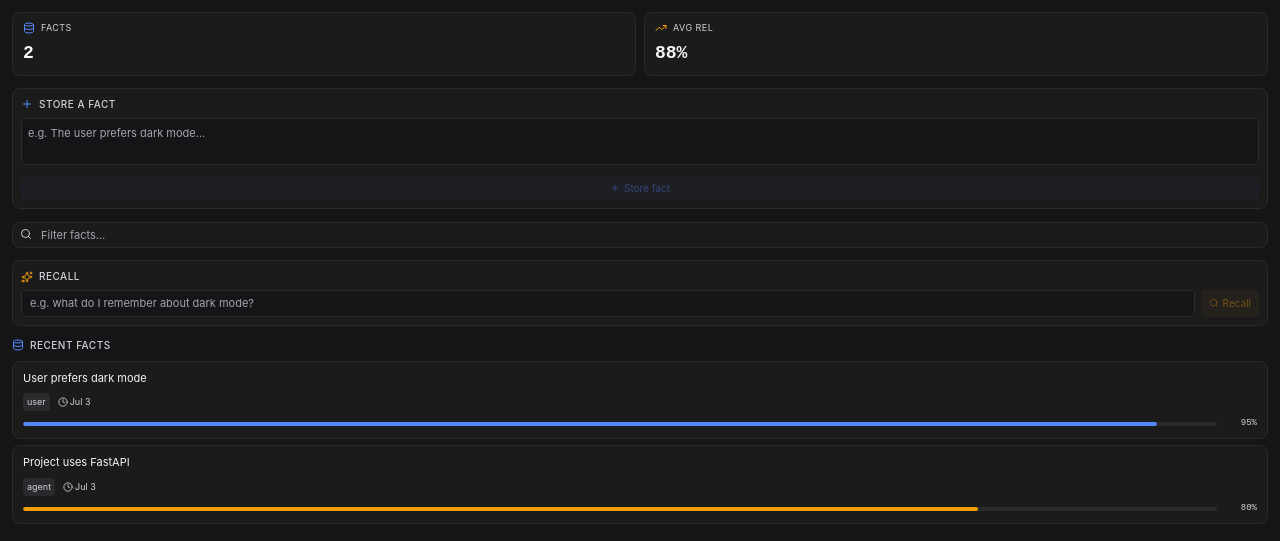
Scenario: MemoryTab › disables the store button while empty or storing
Expected: the button with test id "memory-store-button" is disabled, [21, 176, 1259, 200]
Type "x" into the text box with test id "memory-store-input".
click(640, 141); type("x")  # box [21, 118, 1259, 164]
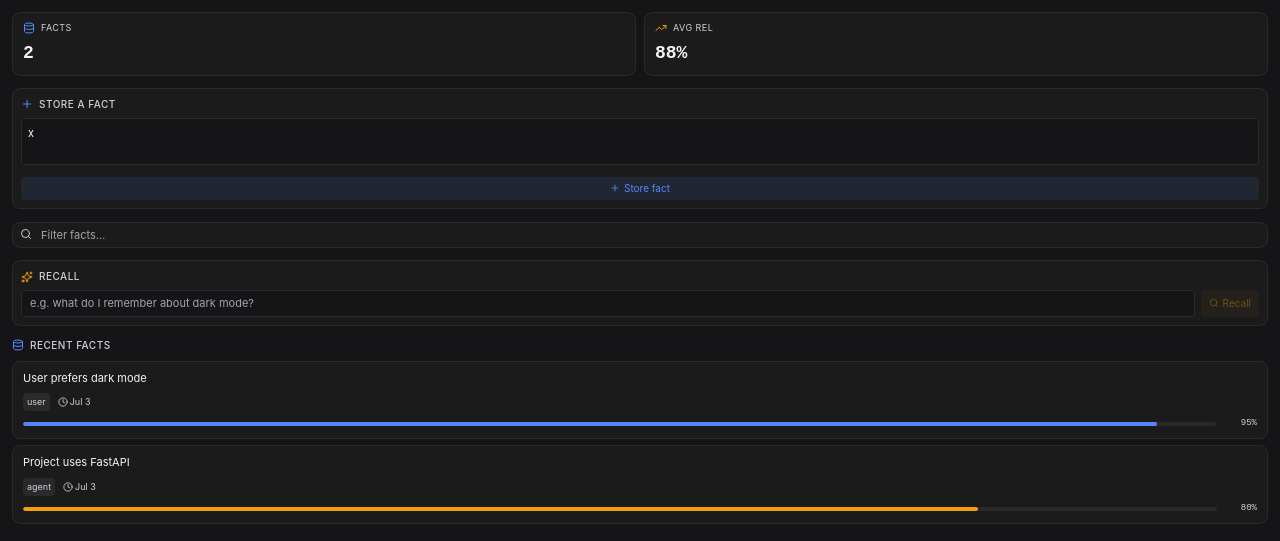
Result: the button with test id "memory-store-button" is enabled at [21, 176, 1259, 200]
